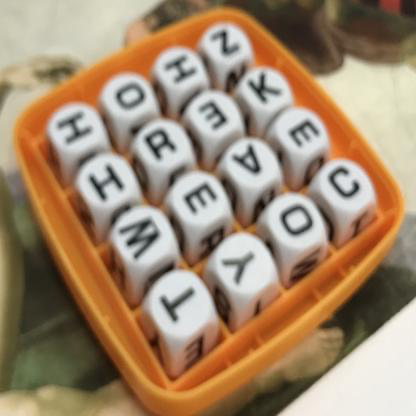a: (227, 137, 270, 184)
c: (319, 160, 364, 211)
e: (180, 176, 225, 235), (283, 109, 326, 159), (192, 91, 233, 143)
h: (47, 99, 98, 148), (83, 157, 131, 209), (161, 47, 202, 90)
k: (246, 62, 285, 115)
o: (280, 194, 315, 249), (110, 74, 150, 114)
r: (141, 120, 180, 171)
t: (155, 278, 203, 333)
w: (117, 208, 173, 269)
y: (220, 245, 259, 291)
z: (205, 19, 248, 66)
